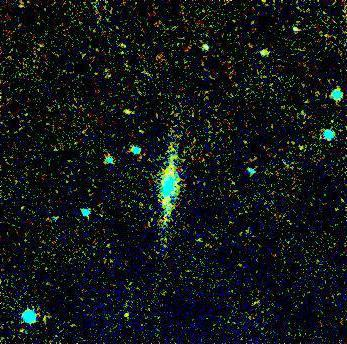star: (115, 97, 145, 127)
